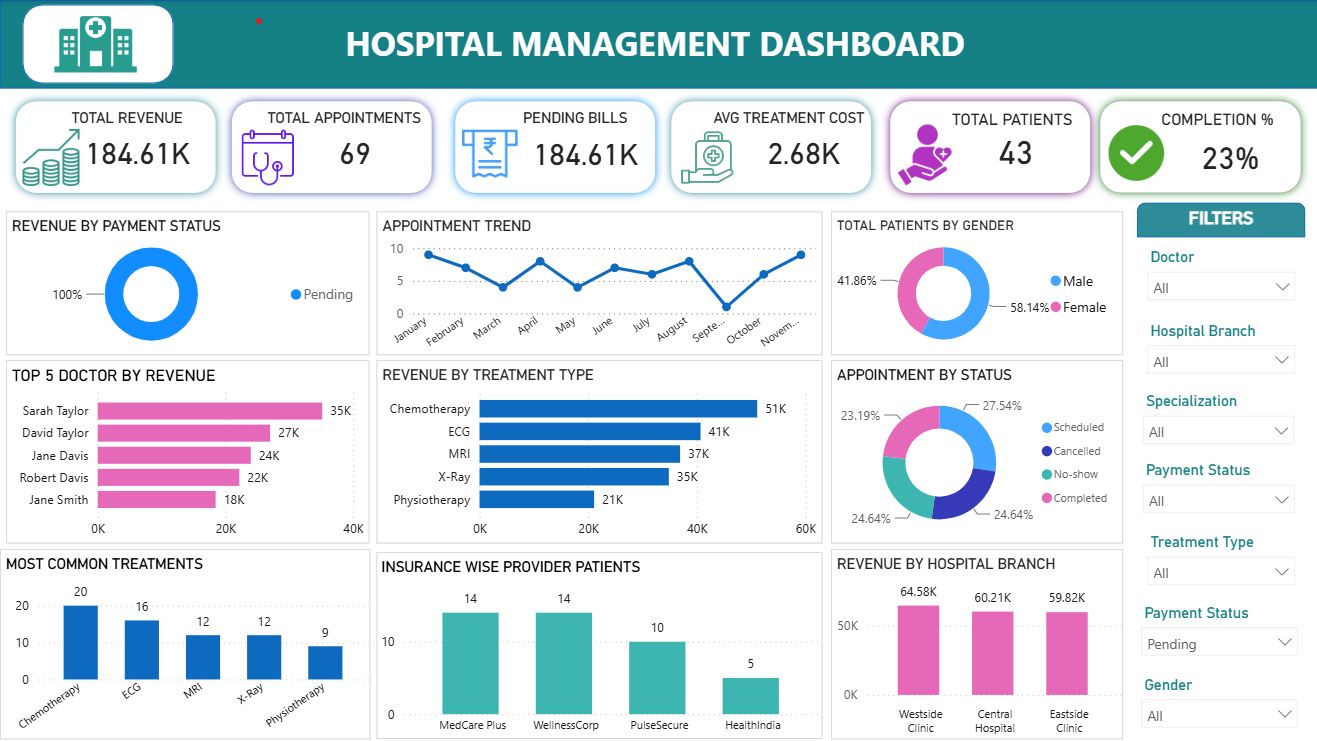

The page's visual inventory and layout, read from the dashboard file:
{"tool":"powerbi","page":{"name":"Dashboard","canvas":[1280,720],"ordinal":0},"visuals":[{"type":"shape","box":[0,0,1280.8,85.8],"z":0},{"type":"donutChart","title":"APPOINTMENT BY STATUS","fields":{"Y":["CountNonNull(appointments.appointment_id)"],"Category":["appointments.status"]},"box":[806.4,349.8,283.4,178.1],"z":1000},{"type":"lineChart","title":"APPOINTMENT TREND","fields":{"Category":["appointments.appointment_date.Variation.Date Hierarchy.Month"],"Y":["CountNonNull(appointments.appointment_id)"]},"box":[365.9,205.6,432.3,139.3],"z":2000},{"type":"donutChart","title":"REVENUE BY PAYMENT STATUS","fields":{"Y":["appointments.Total Revenue"],"Category":["billing.payment_status"]},"box":[6.5,205.6,353,139.3],"z":3000},{"type":"clusteredBarChart","title":"TOP 5 DOCTOR BY REVENUE","fields":{"Category":["doctors.Name"],"Y":["appointments.Total Revenue"]},"box":[6.5,349.8,353,178.1],"z":4000},{"type":"clusteredBarChart","title":"REVENUE BY TREATMENT TYPE","fields":{"Y":["appointments.Total Revenue"],"Category":["treatments.treatment_type"]},"box":[365.9,349.8,432.3,178.1],"z":5000},{"type":"donutChart","title":"TOTAL PATIENTS BY GENDER","fields":{"Y":["appointments.Total Patients"],"Category":["patients.gender"]},"box":[806.4,205.6,283.4,139.3],"z":6000},{"type":"clusteredColumnChart","title":"INSURANCE WISE PROVIDER PATIENTS","fields":{"Y":["CountNonNull(patients.patient_id)"],"Category":["patients.insurance_provider"]},"box":[365.9,536,432.3,181.4],"z":7000},{"type":"clusteredColumnChart","title":"MOST COMMON TREATMENTS","fields":{"Y":["appointments.Treatment Count"],"Category":["treatments.treatment_type"]},"box":[5.8,532.7,353.7,184.9],"z":8000},{"type":"clusteredColumnChart","title":"REVENUE BY HOSPITAL BRANCH","fields":{"Y":["appointments.Total Revenue"],"Category":["doctors.hospital_branch"]},"box":[806.4,532.7,283.4,184.6],"z":9000},{"type":"slicer","fields":{"Values":["doctors.hospital_branch"]},"box":[1103.3,307.1,163,62.6],"z":10000},{"type":"slicer","fields":{"Values":["doctors.specialization"]},"box":[1099.5,375.7,166.8,63.1],"z":11000},{"type":"slicer","fields":{"Values":["appointments.status"]},"box":[1098.9,442.5,167.4,64],"z":12000},{"type":"slicer","fields":{"Values":["treatments.treatment_type"]},"box":[1103.3,512.4,163,67],"z":13000},{"type":"slicer","fields":{"Values":["billing.payment_status"]},"box":[1097.5,580.8,171.8,62.6],"z":14000},{"type":"slicer","fields":{"Values":["patients.gender"]},"box":[1097.8,650.9,171.6,66.4],"z":15000},{"type":"slicer","fields":{"Values":["doctors.Name"]},"box":[1102.7,236.4,163.5,76.1],"z":16000},{"type":"textbox","box":[323.3,15,625,56.7],"z":17000},{"type":"shape","box":[21.7,5,146.7,76.7],"z":18000},{"type":"image","box":[8.3,3.3,168.3,80],"z":19000},{"type":"shape","box":[6.6,90.2,210,105],"z":20000,"group":"g6"},{"type":"shape","box":[433,90.2,210,105],"z":21000,"group":"g4"},{"type":"group","id":"g1","title":"Group 1","box":[1059,90.7,210.5,105.2],"z":21000},{"type":"shape","box":[216.5,90.2,210,105],"z":22000,"group":"g5"},{"type":"group","id":"g2","title":"Group 2","box":[856.3,90.2,210,105],"z":22000},{"type":"group","id":"g3","title":"Group 3","box":[643,90.2,210,105],"z":23000},{"type":"shape","box":[643,90.2,210,105],"z":23000,"group":"g3"},{"type":"group","id":"g4","title":"Group 4","box":[433,90.2,210,105],"z":24000},{"type":"shape","box":[856.3,90.2,210,105],"z":24000,"group":"g2"},{"type":"group","id":"g5","title":"Group 5","box":[216.5,90.2,210,105],"z":25000},{"type":"shape","box":[1059,90.7,210.5,104.5],"z":25000,"group":"g1"},{"type":"group","id":"g6","title":"Group 6","box":[6.6,90.2,210,105],"z":26000},{"type":"cardVisual","title":"TOTAL REVENUE","fields":{"Data":["appointments.Total Revenue"]},"box":[64,106.6,142.7,72.2],"z":26000,"group":"g6"},{"type":"cardVisual","title":"TOTAL APPOINTMENTS","fields":{"Data":["appointments.Total Appointments"]},"box":[252.6,106.6,162.4,72.2],"z":27000,"group":"g5"},{"type":"shape","box":[1102.7,195.9,163.5,34],"z":27000},{"type":"textbox","box":[1127,195.9,116.6,42.1],"z":27001},{"type":"cardVisual","title":"PENDING BILLS","fields":{"Data":["appointments.Pending Bills"]},"box":[474,106.6,162.4,72.2],"z":28000,"group":"g4"},{"type":"cardVisual","title":"AVG TREATMENT COST","fields":{"Data":["appointments.Average Treatment Cost"]},"box":[687.3,106.6,165.7,72.2],"z":29000,"group":"g3"},{"type":"cardVisual","title":"TOTAL PATIENTS","fields":{"Data":["appointments.Total Patients"]},"box":[894,113.2,165.7,73.8],"z":30000,"group":"g2"},{"type":"cardVisual","title":"COMPLETION %","fields":{"Data":["appointments.Appointment Completion %"]},"box":[1090.8,107.3,175.3,88.7],"z":31000,"group":"g1"},{"type":"image","box":[21.1,124.7,55.1,55.1],"z":32000,"group":"g6"},{"type":"image","box":[232.9,124.6,54.1,55.8],"z":33000,"group":"g5"},{"type":"image","box":[447.8,124.6,54.1,55.8],"z":34000,"group":"g4"},{"type":"image","box":[659.4,124.6,54.1,55.8],"z":35000,"group":"g3"},{"type":"image","box":[1075.4,121.7,54.3,55.5],"z":36000,"group":"g1"},{"type":"image","box":[867.8,121.4,59.1,59.1],"z":37000,"group":"g2"},{"type":"textbox","title":"TOTAL PATIENTS","box":[918.6,106.6,139.4,18],"z":38000,"group":"g2"}]}

Visuals, with their boxes in screenshot pixels (x1, y1, x2, y2), scaled from the page's 1280x720 canvas onto the 1317x741 screenshot:
shape: Rect(0, 0, 1316, 88)
"APPOINTMENT BY STATUS" donutChart: Rect(830, 360, 1121, 543)
"APPOINTMENT TREND" lineChart: Rect(376, 212, 821, 355)
"REVENUE BY PAYMENT STATUS" donutChart: Rect(7, 212, 370, 355)
"TOP 5 DOCTOR BY REVENUE" clusteredBarChart: Rect(7, 360, 370, 543)
"REVENUE BY TREATMENT TYPE" clusteredBarChart: Rect(376, 360, 821, 543)
"TOTAL PATIENTS BY GENDER" donutChart: Rect(830, 212, 1121, 355)
"INSURANCE WISE PROVIDER PATIENTS" clusteredColumnChart: Rect(376, 552, 821, 738)
"MOST COMMON TREATMENTS" clusteredColumnChart: Rect(6, 548, 370, 739)
"REVENUE BY HOSPITAL BRANCH" clusteredColumnChart: Rect(830, 548, 1121, 738)
slicer - doctors.hospital_branch: Rect(1135, 316, 1303, 380)
slicer - doctors.specialization: Rect(1131, 387, 1303, 452)
slicer - appointments.status: Rect(1131, 455, 1303, 521)
slicer - treatments.treatment_type: Rect(1135, 527, 1303, 596)
slicer - billing.payment_status: Rect(1129, 598, 1306, 662)
slicer - patients.gender: Rect(1130, 670, 1306, 738)
slicer - doctors.Name: Rect(1135, 243, 1303, 322)
textbox: Rect(333, 15, 976, 74)
shape: Rect(22, 5, 173, 84)
image: Rect(9, 3, 182, 86)
shape: Rect(7, 93, 223, 201)
shape: Rect(446, 93, 662, 201)
"Group 1" group: Rect(1090, 93, 1306, 202)
shape: Rect(223, 93, 439, 201)
"Group 2" group: Rect(881, 93, 1097, 201)
"Group 3" group: Rect(662, 93, 878, 201)
shape: Rect(662, 93, 878, 201)
"Group 4" group: Rect(446, 93, 662, 201)
shape: Rect(881, 93, 1097, 201)
"Group 5" group: Rect(223, 93, 439, 201)
shape: Rect(1090, 93, 1306, 201)
"Group 6" group: Rect(7, 93, 223, 201)
"TOTAL REVENUE" cardVisual: Rect(66, 110, 213, 184)
"TOTAL APPOINTMENTS" cardVisual: Rect(260, 110, 427, 184)
shape: Rect(1135, 202, 1303, 237)
textbox: Rect(1160, 202, 1280, 245)
"PENDING BILLS" cardVisual: Rect(488, 110, 655, 184)
"AVG TREATMENT COST" cardVisual: Rect(707, 110, 878, 184)
"TOTAL PATIENTS" cardVisual: Rect(920, 117, 1090, 192)
"COMPLETION %" cardVisual: Rect(1122, 110, 1303, 202)
image: Rect(22, 128, 78, 185)
image: Rect(240, 128, 295, 186)
image: Rect(461, 128, 516, 186)
image: Rect(678, 128, 734, 186)
image: Rect(1106, 125, 1162, 182)
image: Rect(893, 125, 954, 186)
"TOTAL PATIENTS" textbox: Rect(945, 110, 1089, 128)
